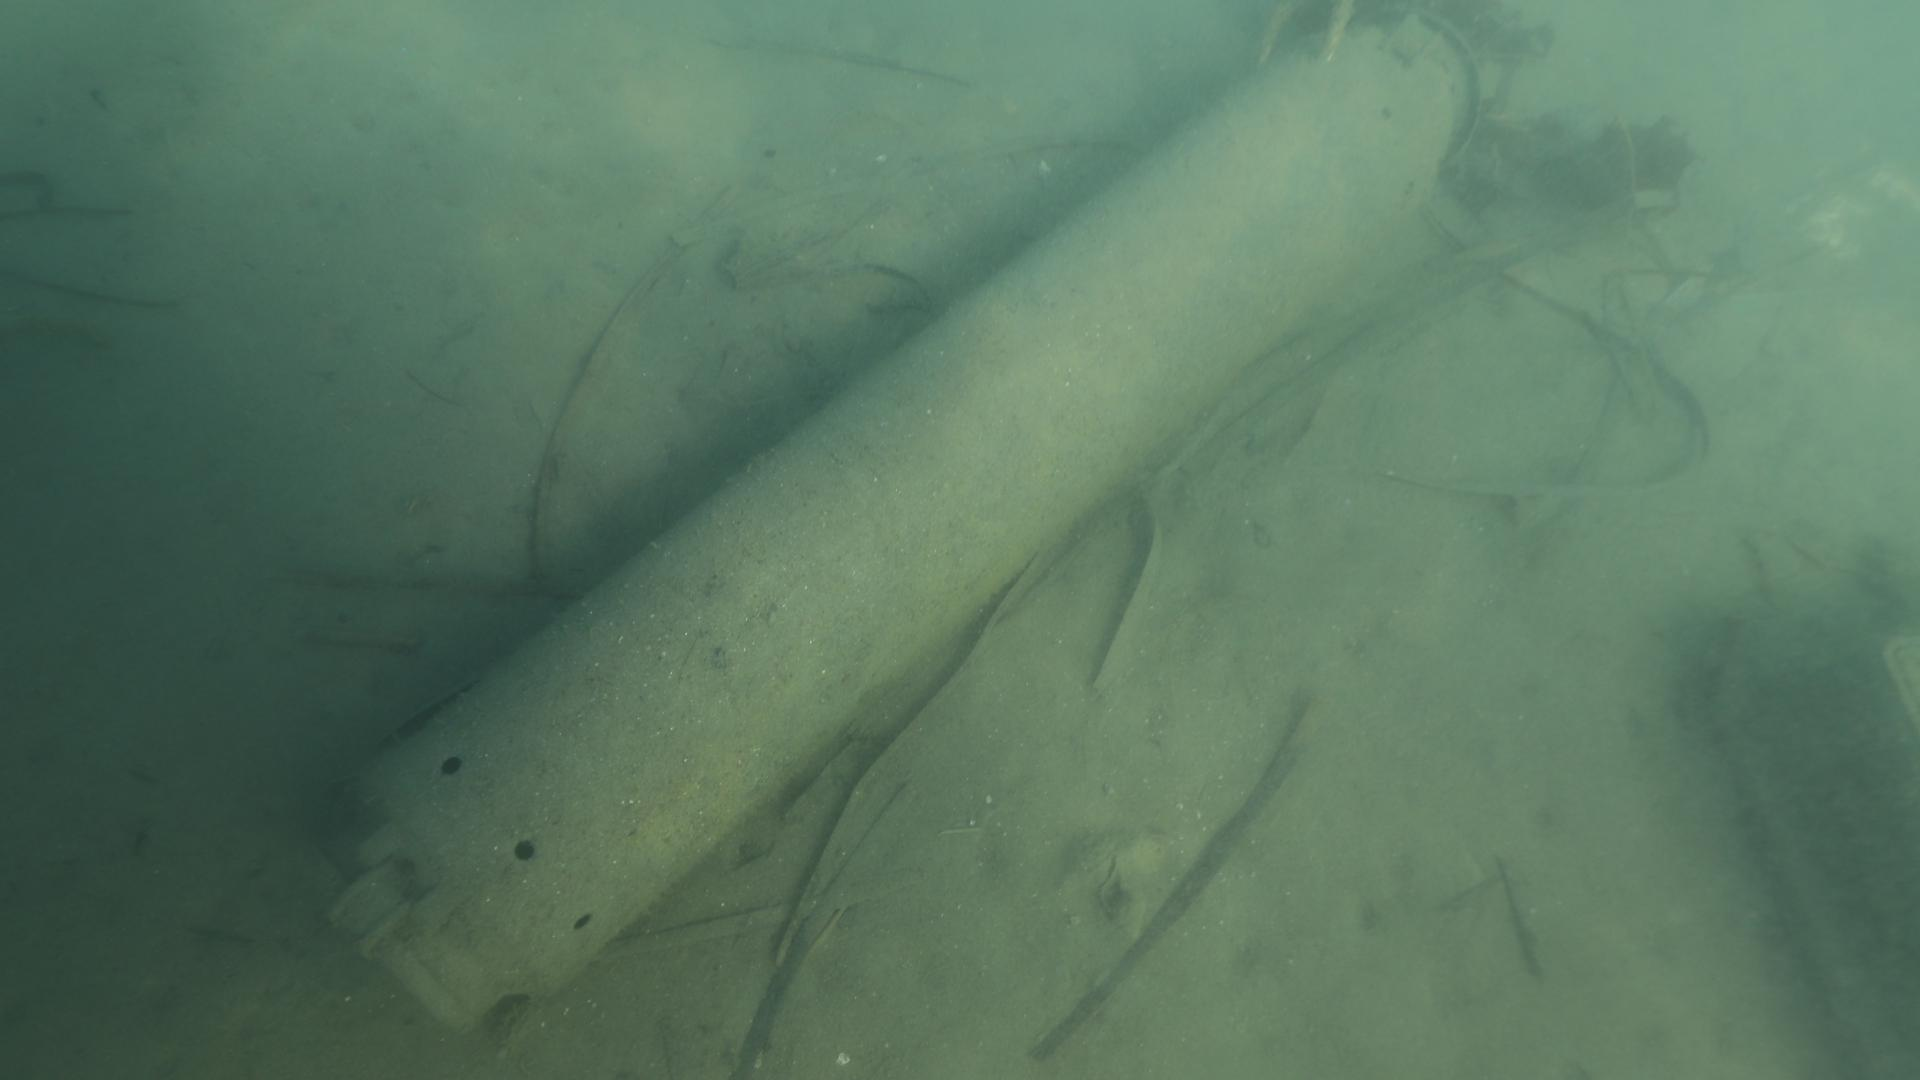eel fish trap: (327, 12, 1485, 1038)
